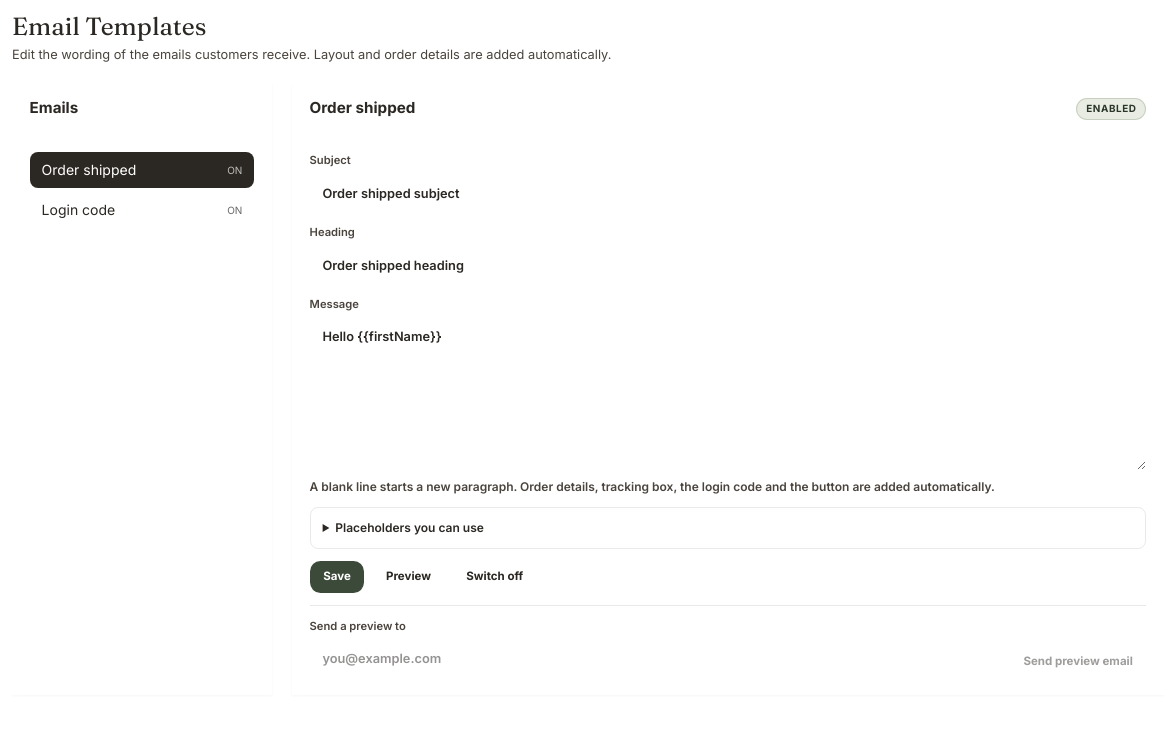
Scenario: Admin → Email Templates › security emails have no switch-off control
What coordinates should you click on to do the following:
click the button "Login code on"
I would click on:
 (142, 210)
Its box is top-left (30, 192), bottom-right (254, 228).
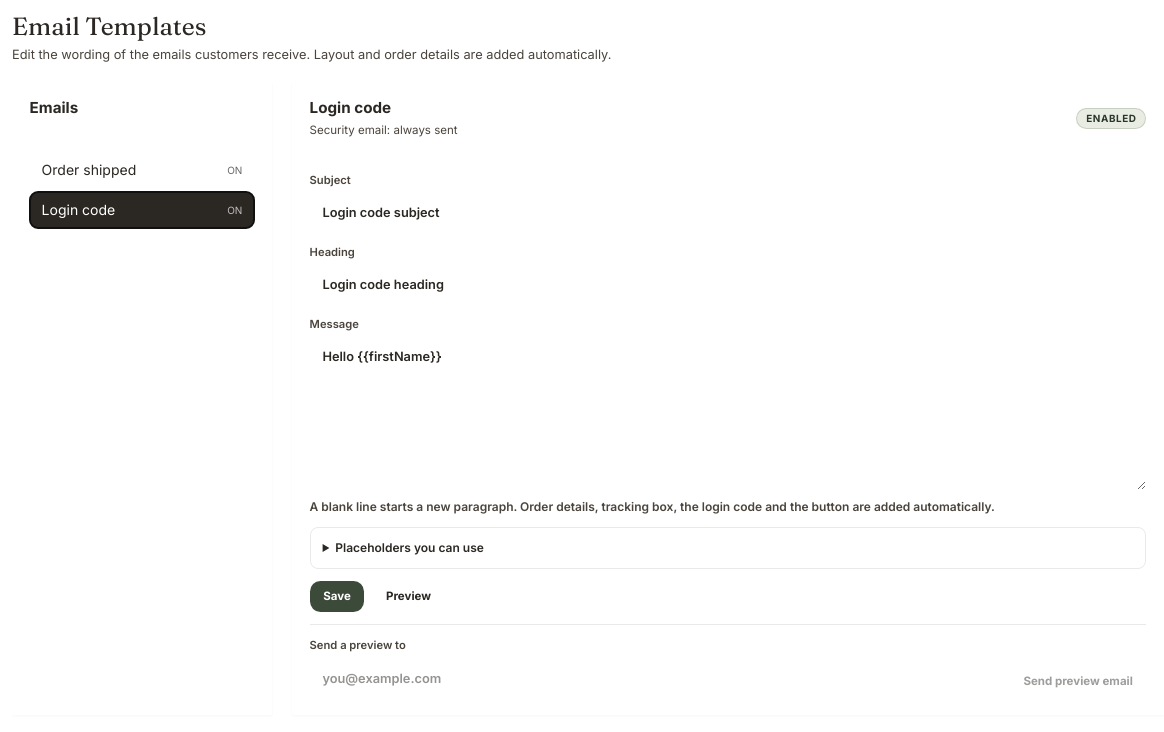
Now the text "Security email: always sent" is shown, box top-left (310, 122), bottom-right (458, 140)
Now the button "Switch off" is gone
